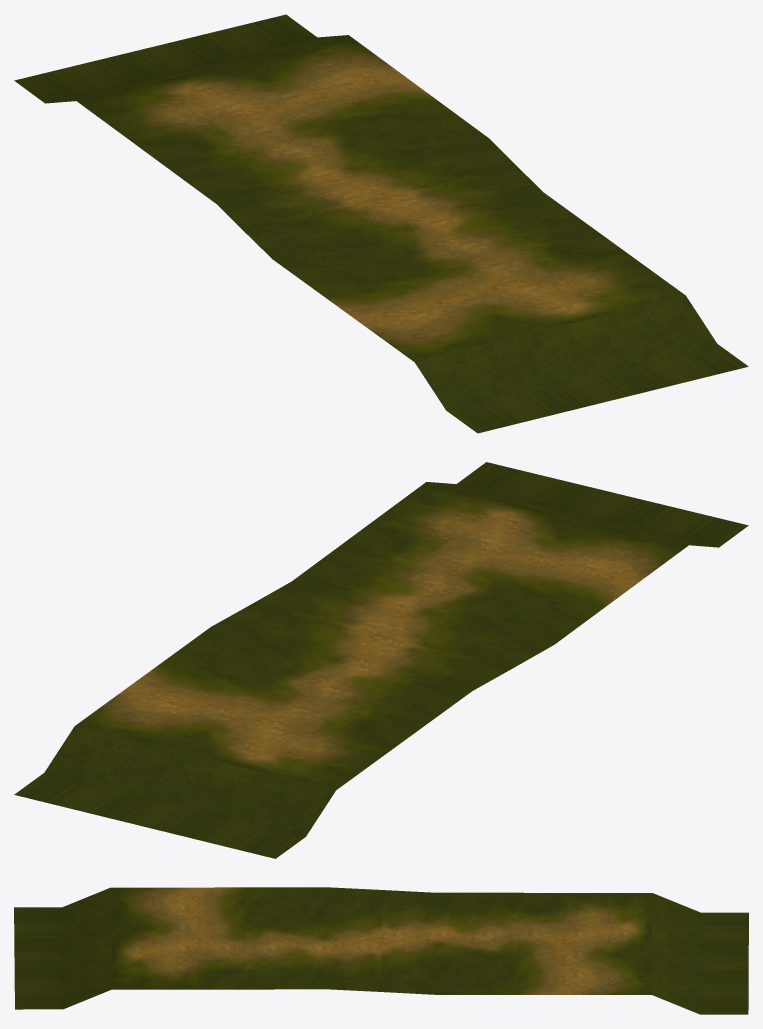
The model's file is lumina_dixing_zhanyi02.FBX.
3 views of the same model, one above another, from view 1: azimuth 30°, elevation 25°; view 2: azimuth 150°, elevation 25°; view 3: azimuth 270°, elevation 25° (orthographic). The views are drawn at different scales.
Visible parts, largest first — view 1: polymsh2; view 2: polymsh2; view 3: polymsh2.
Boxes of the visible parts, x1,y1,x2,y2 form: polymsh2: [14, 14, 748, 433]; polymsh2: [14, 462, 748, 858]; polymsh2: [14, 887, 748, 1014].
Size of the model in its own units: 0.1296 by 0.011 by 0.3734.
